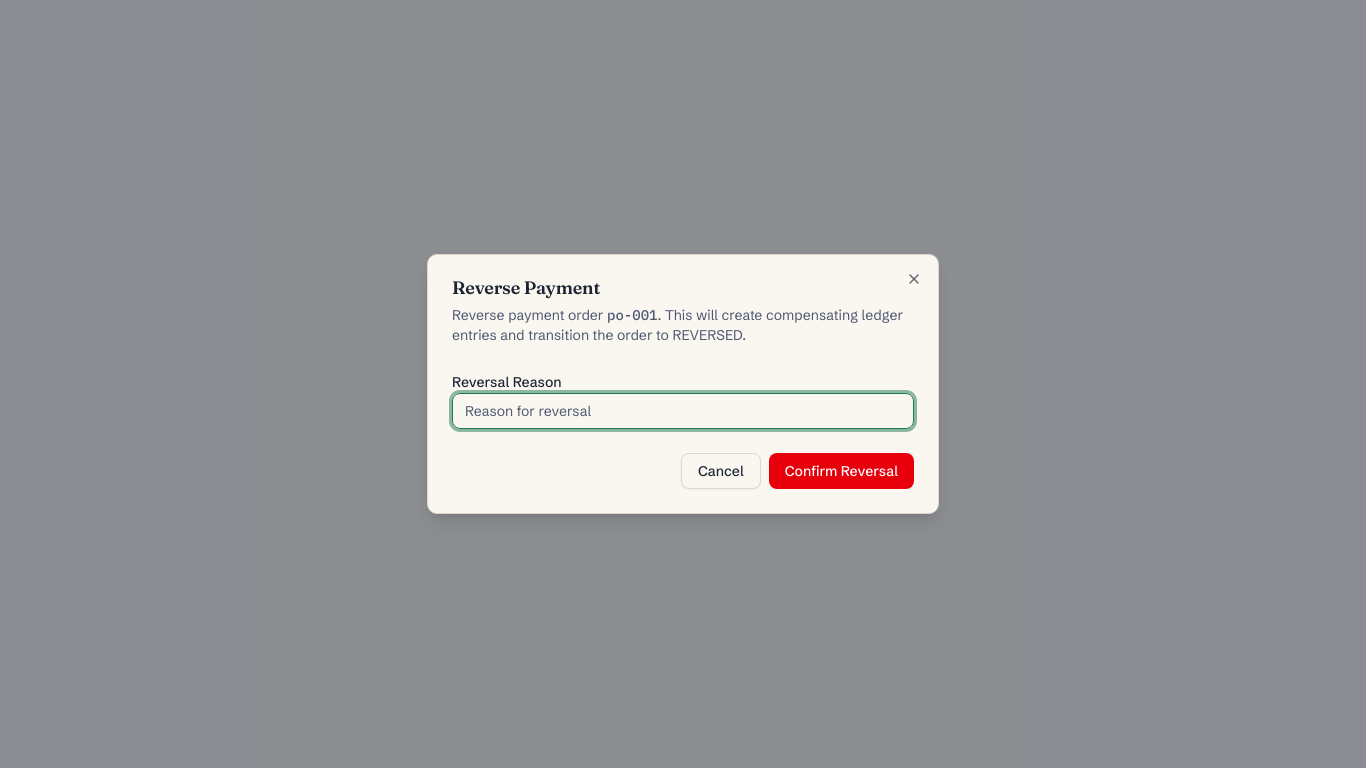
ReversePaymentDialog - successful reversal › requires a reversal reason
What coordinates should you click on to do the following:
click the button "Confirm Reversal"
I would click on:
 (841, 471)
Its box is [769,453,914,489].
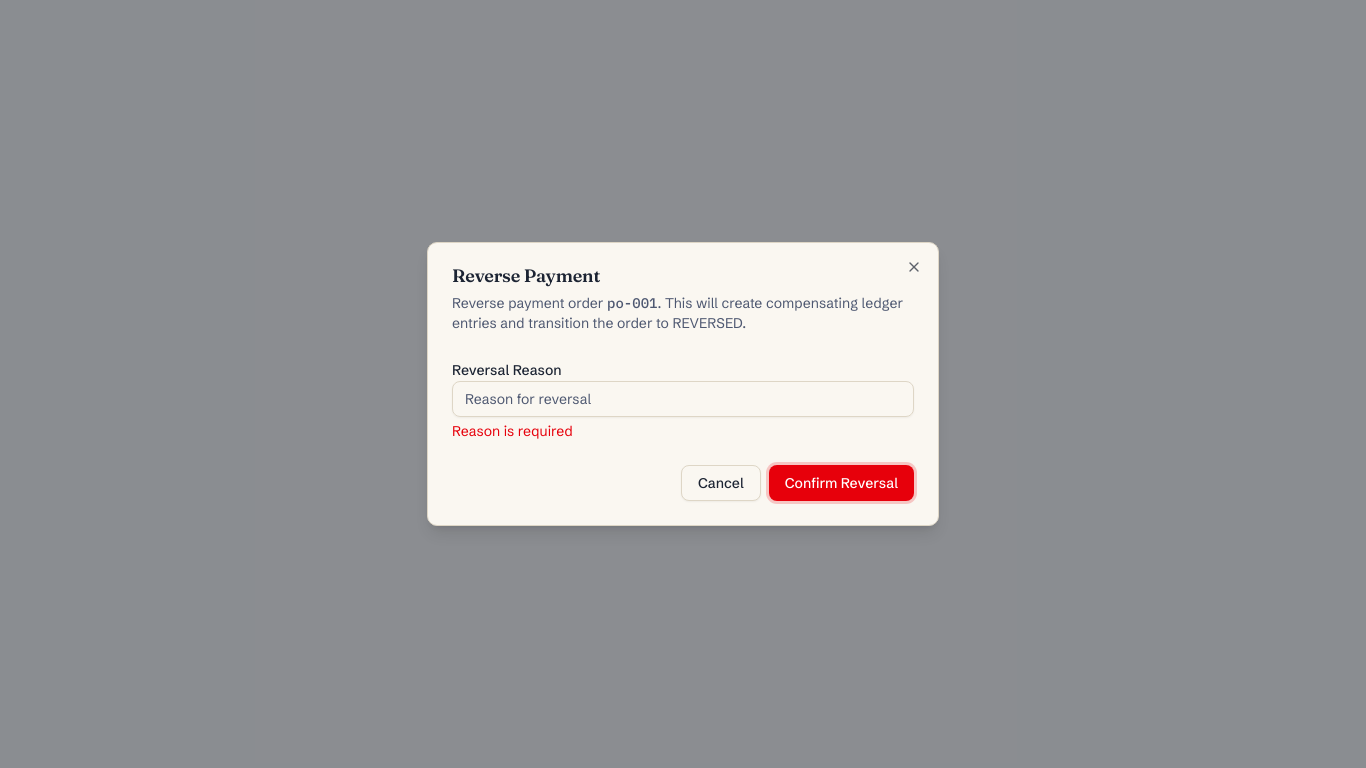
Expected: the text "Reason is required" is shown, [452,422,573,440]
